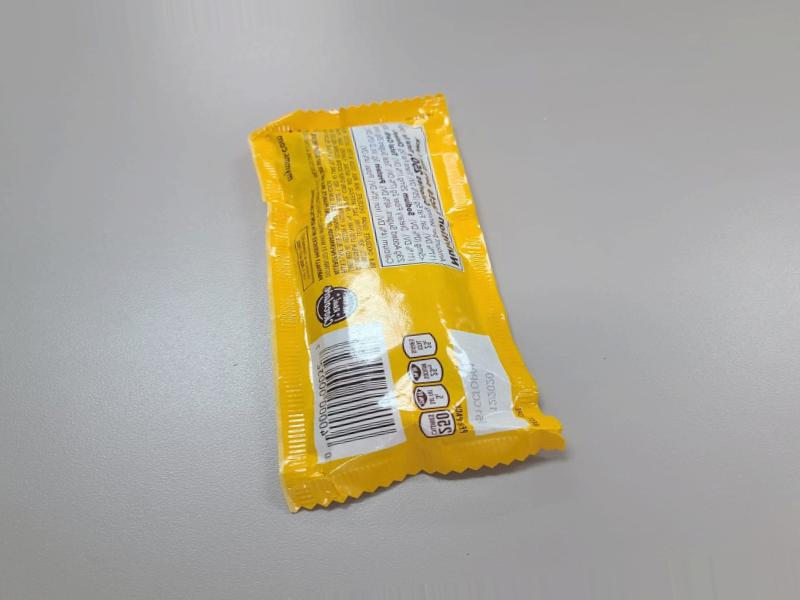m&m: (268, 113, 555, 492)
